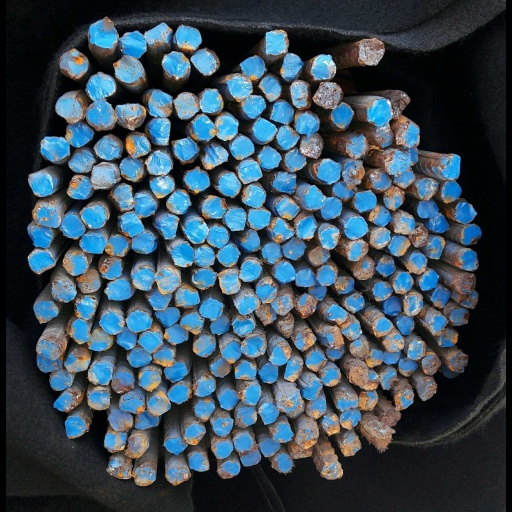dipstick: (79, 101, 114, 128), (19, 171, 51, 198), (82, 72, 112, 100), (48, 97, 78, 125), (161, 50, 189, 80), (197, 141, 229, 167), (54, 48, 82, 77), (92, 133, 120, 162), (190, 48, 218, 77), (87, 162, 114, 192), (113, 102, 143, 129), (171, 90, 198, 120), (145, 118, 172, 148), (110, 54, 138, 82), (142, 20, 169, 49), (22, 248, 51, 275), (126, 192, 156, 218), (264, 27, 289, 58), (312, 82, 343, 107), (107, 180, 130, 213), (34, 135, 62, 162), (189, 113, 216, 141), (224, 74, 252, 101), (77, 201, 104, 229), (61, 317, 88, 345), (143, 152, 172, 178), (27, 202, 58, 226), (86, 18, 113, 45), (56, 212, 83, 239), (20, 222, 47, 249), (146, 88, 171, 117), (180, 167, 210, 191), (288, 79, 312, 109), (123, 307, 150, 333), (276, 123, 302, 150), (168, 137, 196, 162), (163, 191, 191, 216), (362, 38, 387, 66), (100, 456, 129, 480), (60, 123, 90, 146), (143, 177, 173, 200), (427, 234, 449, 265), (65, 174, 91, 200), (238, 54, 264, 80), (311, 54, 337, 80), (118, 30, 143, 57), (123, 131, 148, 158), (173, 25, 201, 49), (73, 267, 97, 295), (170, 241, 193, 270), (116, 155, 141, 181), (197, 88, 222, 114), (250, 118, 276, 143), (241, 92, 266, 118), (45, 277, 71, 302), (182, 216, 207, 242), (27, 300, 54, 324), (104, 408, 131, 432), (94, 312, 122, 335), (28, 353, 60, 373), (65, 148, 90, 173), (230, 134, 255, 159), (57, 250, 82, 275), (237, 158, 263, 182), (214, 171, 238, 197), (200, 195, 226, 219), (152, 270, 178, 294), (216, 268, 240, 294), (188, 267, 214, 291), (318, 160, 344, 184), (99, 278, 126, 301), (243, 181, 266, 208), (82, 328, 109, 351), (105, 372, 132, 395), (240, 254, 262, 282), (258, 146, 282, 171), (153, 214, 177, 239), (270, 217, 295, 241), (197, 297, 221, 322), (60, 349, 85, 373), (80, 385, 105, 409), (271, 100, 295, 125), (347, 134, 371, 159), (330, 102, 355, 126), (239, 334, 265, 357), (318, 226, 344, 249), (393, 210, 416, 236), (401, 121, 424, 147), (215, 113, 237, 140), (73, 233, 100, 255), (163, 463, 190, 485), (345, 217, 372, 239), (28, 338, 57, 358), (258, 76, 282, 100), (296, 293, 320, 317), (343, 158, 366, 183), (96, 256, 118, 282), (130, 267, 152, 293), (275, 197, 301, 219), (295, 113, 322, 134), (391, 90, 412, 117), (141, 288, 169, 308), (193, 244, 217, 267), (117, 392, 141, 415), (283, 150, 307, 173), (304, 186, 327, 210), (370, 226, 394, 249), (389, 233, 413, 256), (372, 99, 395, 123), (126, 431, 145, 460), (240, 229, 262, 254), (193, 333, 215, 358), (112, 325, 134, 350), (232, 402, 257, 424), (274, 259, 296, 284), (301, 134, 326, 156), (348, 240, 373, 262), (225, 205, 246, 231), (230, 314, 256, 335), (159, 325, 186, 345), (370, 280, 397, 300), (116, 212, 139, 235), (130, 230, 153, 253), (247, 207, 270, 230), (355, 256, 378, 279), (321, 198, 344, 221), (431, 286, 454, 309), (101, 234, 125, 256), (276, 171, 298, 195), (178, 311, 202, 333), (84, 364, 108, 386), (319, 413, 343, 435), (444, 155, 466, 179), (375, 123, 397, 147), (431, 311, 452, 336), (462, 224, 487, 245), (152, 306, 178, 326), (282, 53, 302, 79), (41, 372, 71, 389), (69, 297, 92, 319), (208, 225, 230, 248), (171, 285, 194, 307), (283, 238, 306, 260), (317, 264, 339, 287), (168, 381, 189, 405), (125, 346, 149, 367), (132, 407, 156, 428), (406, 292, 427, 316), (370, 167, 394, 188), (135, 370, 160, 390), (100, 430, 125, 450), (282, 357, 302, 382), (338, 409, 363, 429), (380, 366, 400, 391), (386, 183, 405, 209), (429, 214, 455, 233), (261, 241, 283, 263), (334, 179, 356, 201), (460, 200, 482, 222), (390, 151, 412, 173), (323, 327, 346, 348), (358, 189, 379, 212), (396, 271, 417, 294), (350, 337, 371, 360), (444, 180, 467, 201), (57, 415, 81, 435), (235, 293, 259, 313), (337, 390, 361, 410), (379, 252, 399, 276), (194, 397, 213, 422), (270, 341, 289, 366), (304, 352, 329, 371), (308, 246, 333, 265), (145, 394, 167, 415), (257, 402, 279, 423), (322, 367, 344, 388), (272, 293, 293, 315), (385, 293, 406, 315), (398, 312, 419, 334), (219, 245, 239, 268), (135, 332, 158, 352), (130, 465, 153, 485), (216, 459, 239, 479), (259, 305, 279, 328), (273, 423, 293, 446), (304, 379, 324, 402), (376, 429, 396, 452), (256, 281, 279, 301), (161, 363, 185, 382), (272, 455, 296, 474), (307, 397, 326, 421), (186, 451, 207, 472), (296, 215, 317, 236), (348, 363, 369, 384), (183, 423, 205, 443), (211, 415, 231, 437), (342, 437, 364, 457), (294, 328, 316, 348), (420, 177, 440, 199), (361, 390, 380, 413), (295, 268, 318, 287), (49, 392, 73, 410), (161, 434, 185, 452), (408, 141, 424, 168), (153, 346, 173, 367), (194, 374, 214, 395), (322, 198, 343, 218), (462, 289, 483, 309), (424, 269, 444, 290), (219, 388, 238, 410), (211, 358, 233, 377), (234, 359, 253, 381), (259, 362, 278, 384), (347, 292, 366, 314), (397, 387, 416, 409), (412, 225, 431, 247), (279, 314, 295, 340), (385, 407, 403, 430), (209, 440, 233, 457), (459, 273, 483, 290), (258, 435, 278, 455), (336, 275, 356, 295), (374, 318, 394, 338), (221, 340, 242, 359), (296, 428, 317, 447), (346, 319, 365, 340), (443, 327, 462, 348), (232, 433, 254, 451), (326, 304, 348, 322), (425, 354, 443, 376), (421, 199, 443, 217), (239, 449, 262, 466), (417, 382, 440, 399), (292, 441, 312, 460), (411, 253, 430, 273), (207, 314, 228, 332), (325, 458, 343, 479), (281, 392, 302, 410), (387, 333, 408, 351), (452, 307, 473, 325), (466, 250, 484, 271), (374, 206, 393, 225), (453, 353, 472, 372), (411, 340, 429, 360), (398, 169, 418, 187), (240, 384, 259, 402), (310, 283, 330, 300), (327, 343, 348, 359), (384, 348, 406, 363), (364, 373, 382, 391), (286, 403, 306, 419), (400, 358, 420, 374), (368, 349, 385, 367), (447, 364, 465, 380), (345, 323, 363, 339)
